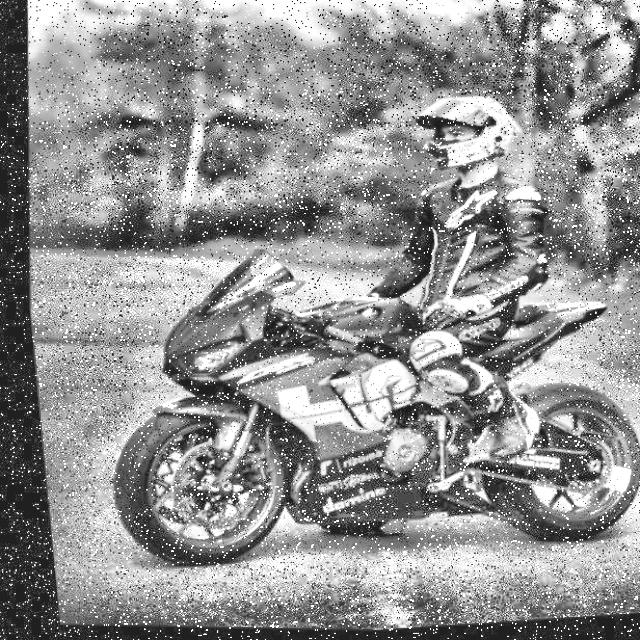Helmet: (400, 90, 529, 188)
